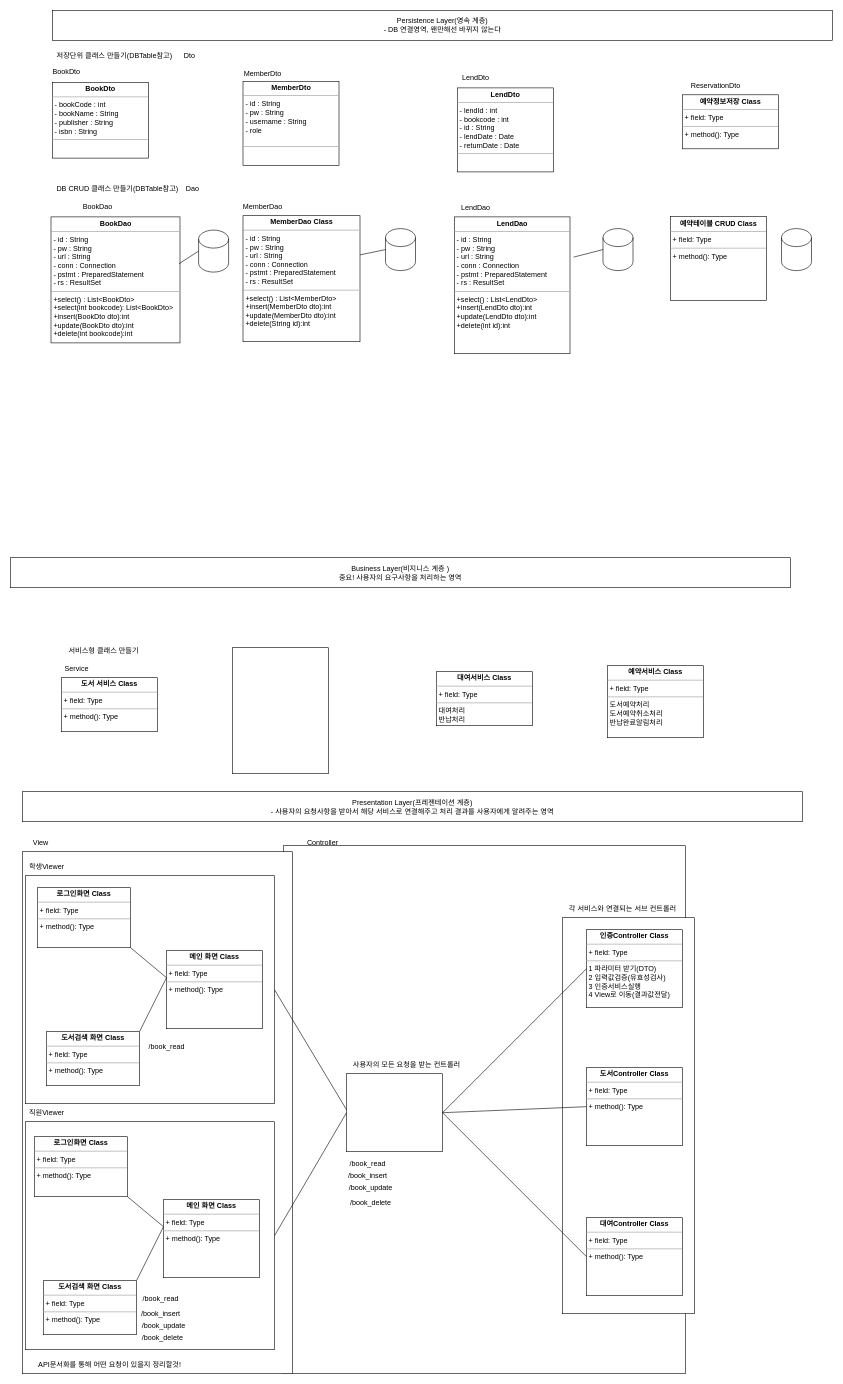
Some shapes in this 843 by 1384 pixel diagram are drawn without their labels. The shapes that lost their labels are listed below. From the top down, each one's centre as x and y in pixels, then its label:
At (213,251): "도서 테이블".
At (400,249): "회원 테이블".
At (617,249): "대여 테이블".
At (796,249): "예약 테이블".
At (280,710): "인증서비스 Class + field: Type 회원가입 회원조회 회원수정 회원탈퇴 회원 로그인 사서 로그인 로그아웃 권한처리".
At (394,1112): "FrontController Class + field: Type + method(): Type".
